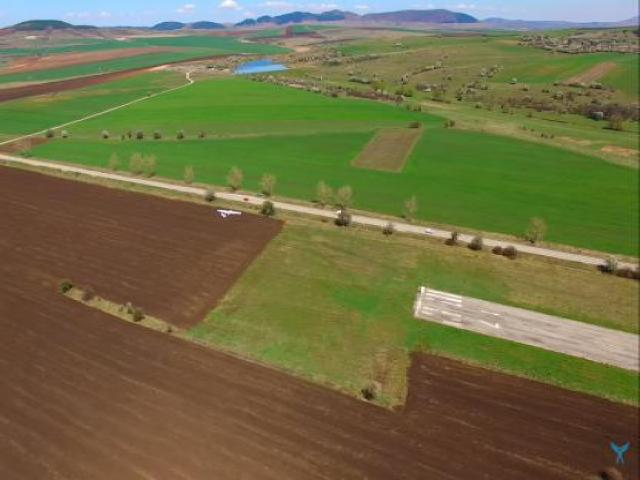uav: (212, 200, 242, 222)
